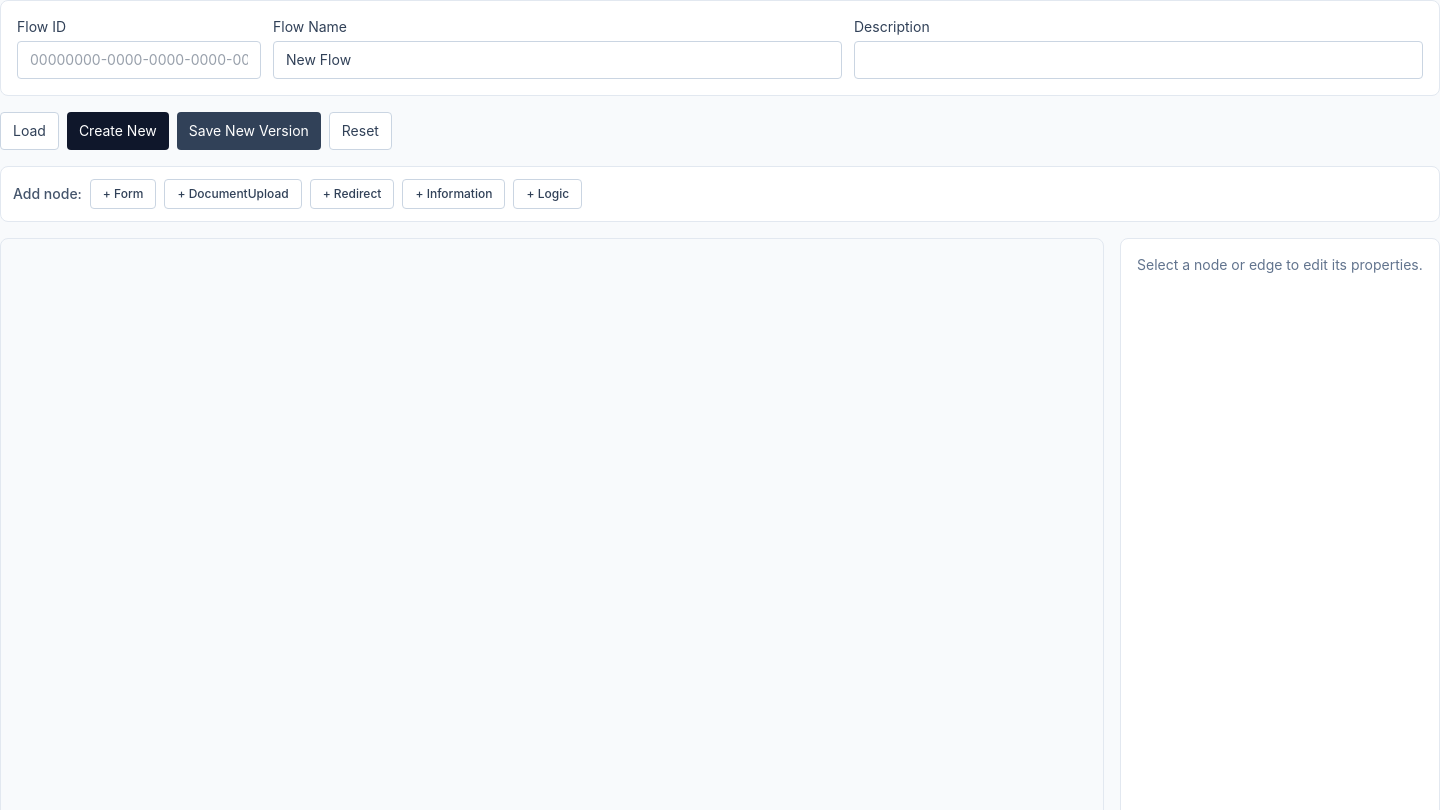
Test case: VisualJourneyBuilder › shows error when loading without a flow ID
Click the button "Load".
click(29, 131)  # box top-left (0, 112), bottom-right (59, 150)
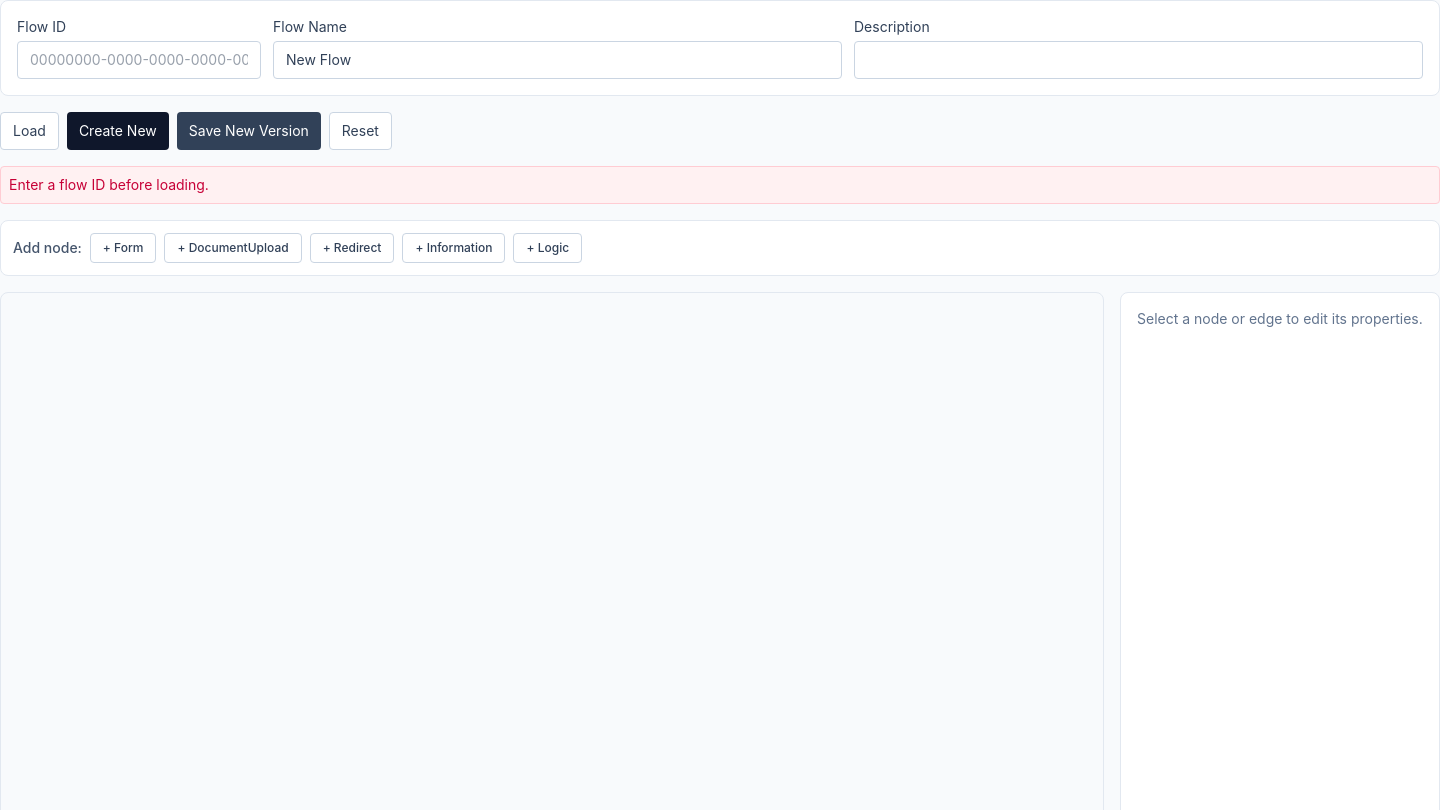
Expected: the message shows "Enter a flow ID", top-left (9, 176), bottom-right (209, 193)
